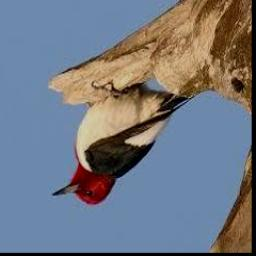Woodpecker: (52, 88, 189, 205)
